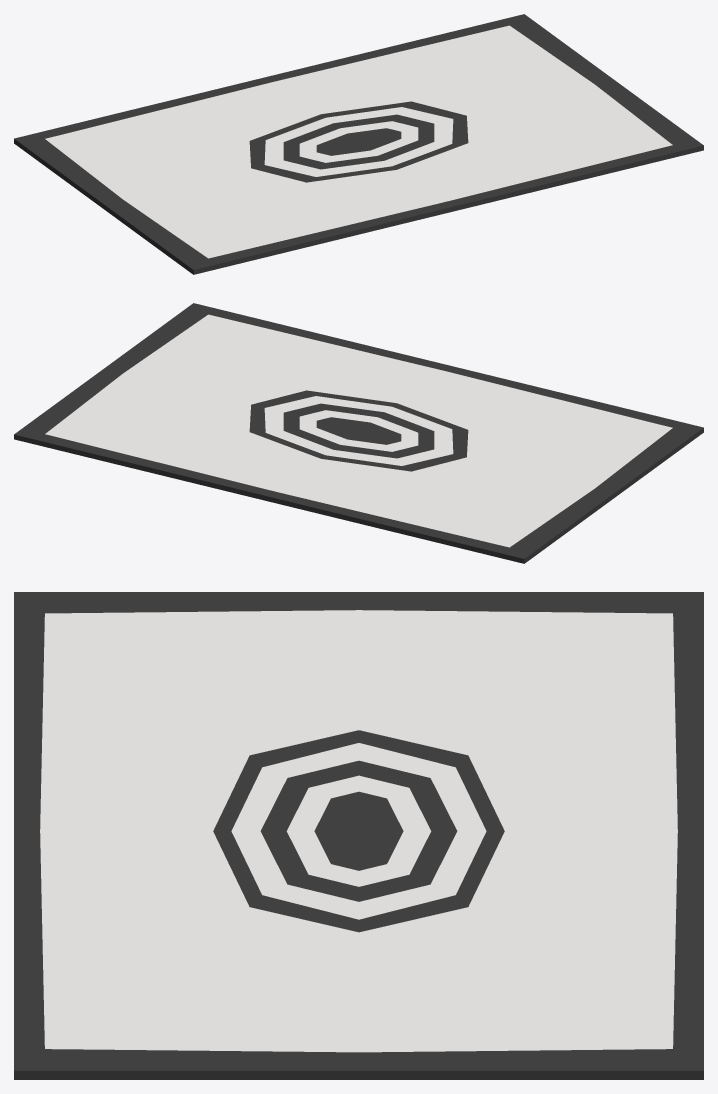
File: Carpet_18.fbx
The picture shows the model from 3 angles, top to bottom: view 1: azimuth 30°, elevation 25°; view 2: azimuth 150°, elevation 25°; view 3: azimuth 270°, elevation 25°; orthographic projection. The views are drawn at different scales.
Visible parts, largest first — view 1: Carpet_18; view 2: Carpet_18; view 3: Carpet_18.
Boxes of the visible parts, x1,y1,x2,y2 form: Carpet_18: (14, 14, 703, 274); Carpet_18: (14, 303, 703, 563); Carpet_18: (14, 592, 703, 1079).
Bounding box in the file's own units: 435 × 265 × 4.01.
